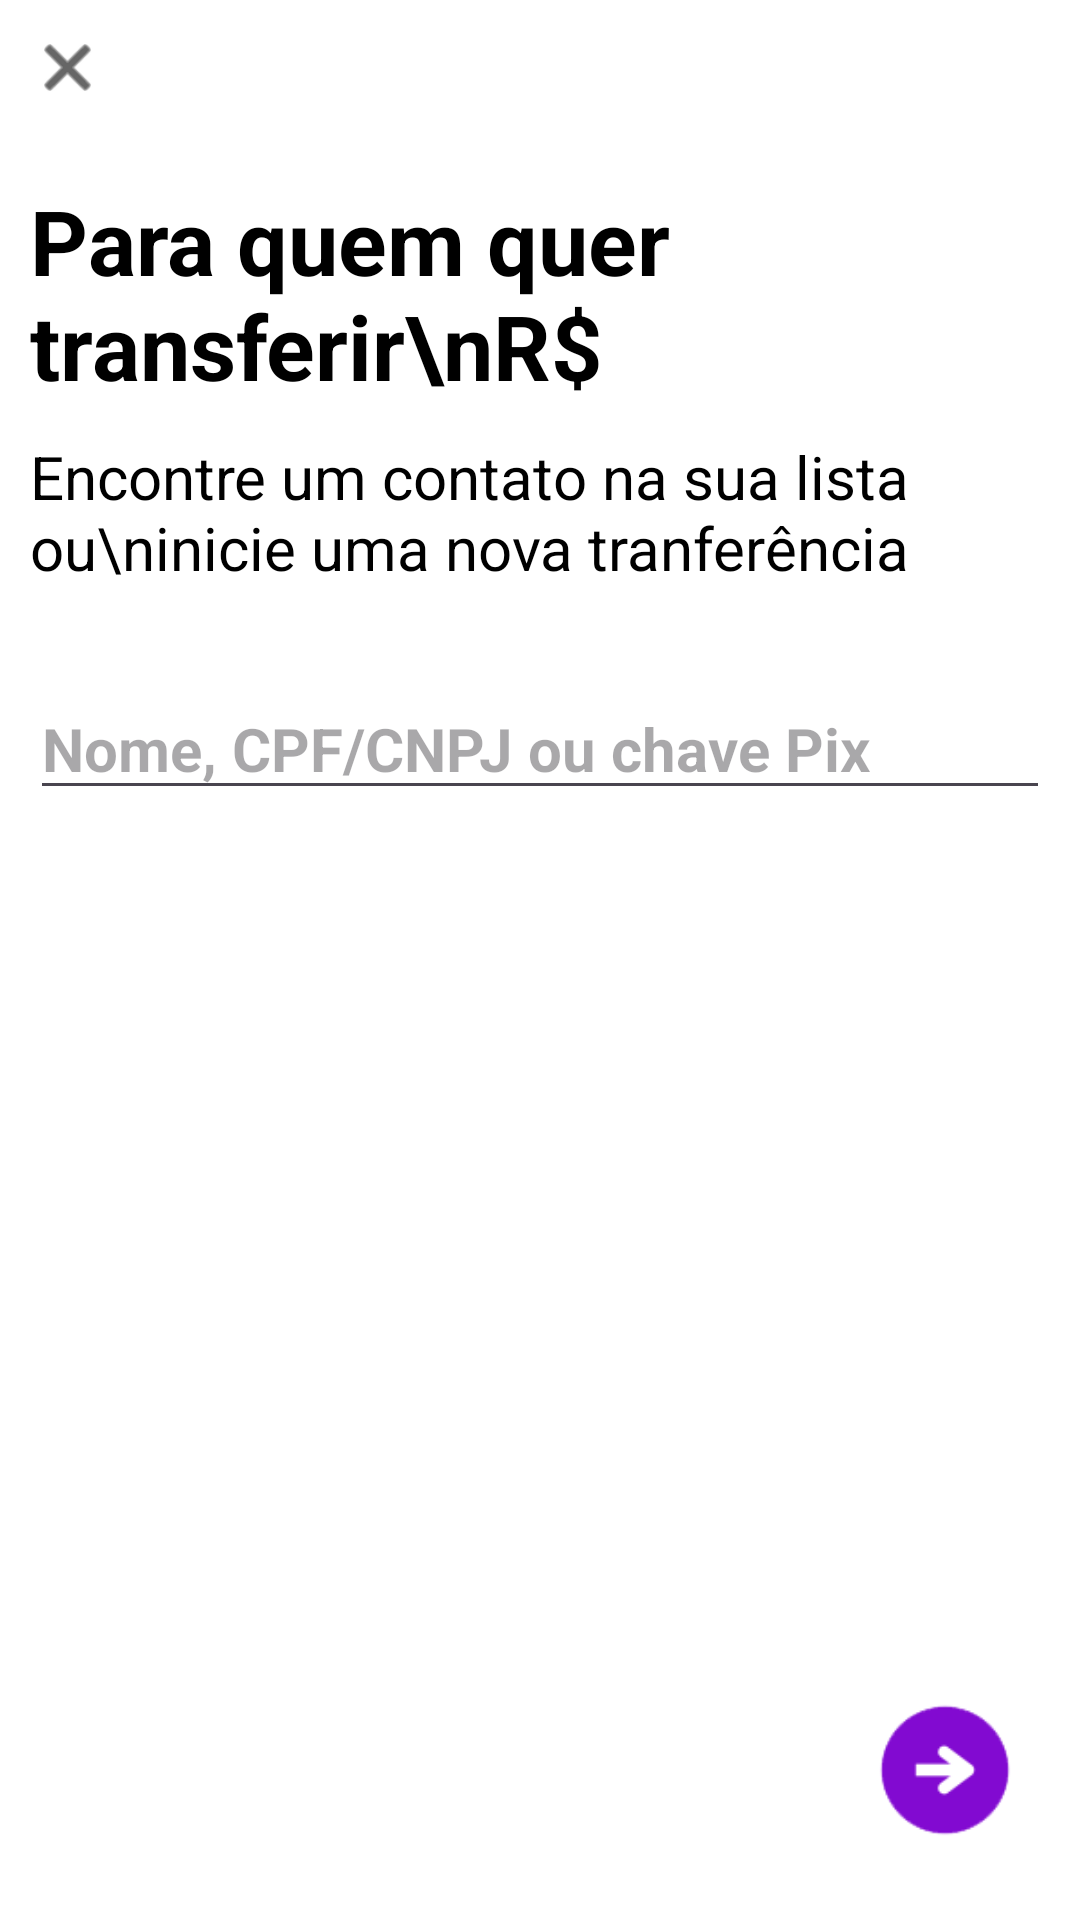

Screen size 1080 × 1920. Icon name, then its box in pixels as (x1,y1,x2,y2):
close clear cancel: (44,44,91,91)
send: (880,1705,1010,1835)
